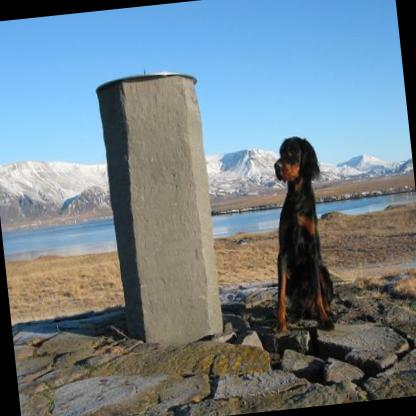Gordon_setter: (252, 128, 340, 341)
